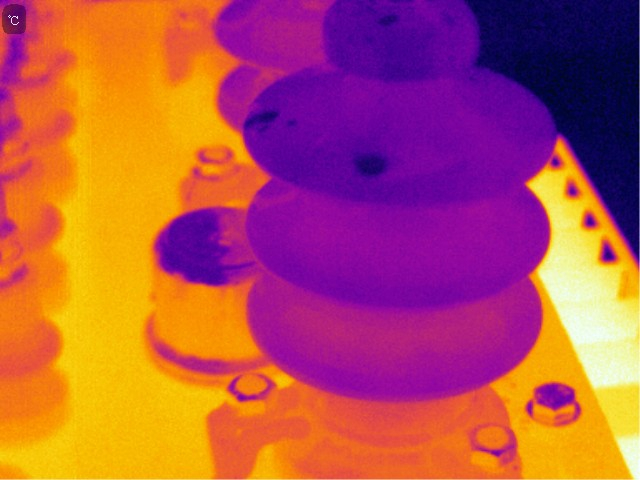Water: (350, 152, 389, 180), (243, 107, 280, 134), (375, 13, 404, 29), (438, 11, 458, 26), (286, 117, 299, 129)
